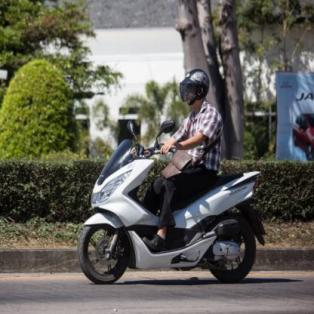Motocicleta: (78, 116, 261, 288)
